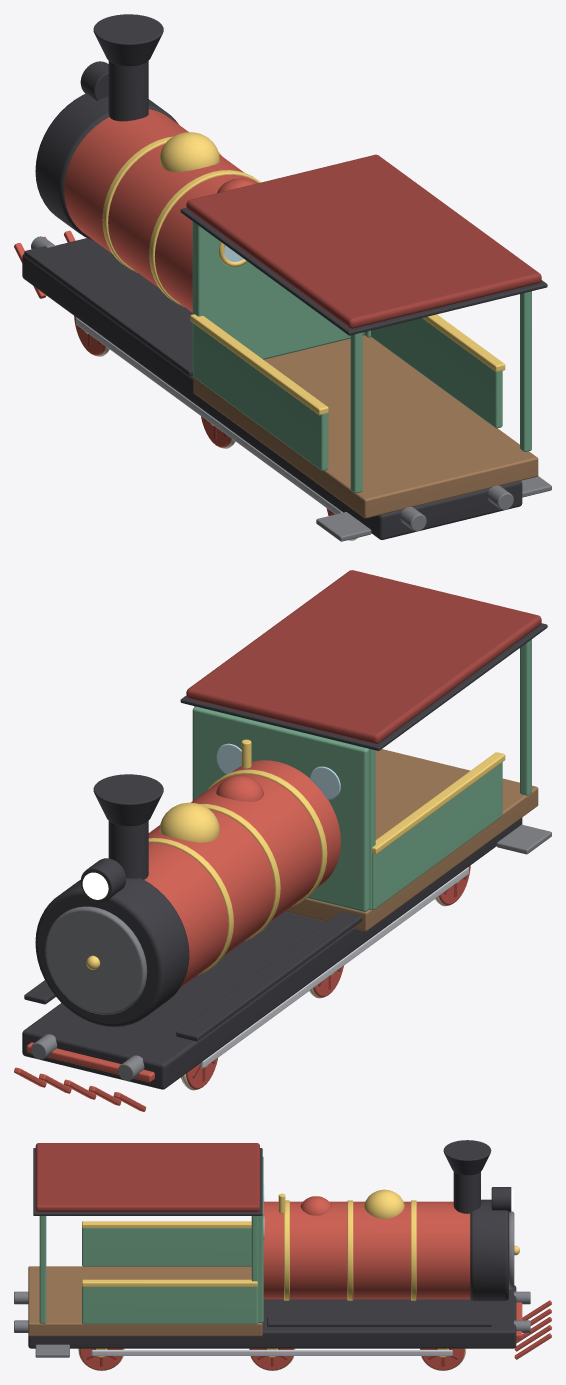
File: locomotive.glb
The picture shows the model from 3 angles, top to bottom: view 1: azimuth 30°, elevation 25°; view 2: azimuth 150°, elevation 25°; view 3: azimuth 270°, elevation 25°; orthographic projection. The views are drawn at different scales.
Visible parts, largest first — view 1: Locomotive; view 2: Locomotive; view 3: Locomotive, Wheel_1, Wheel_5, Wheel_3.
Part boxes in pixels (bbox=[...]): Locomotive: bbox=[14, 14, 551, 541]; Locomotive: bbox=[14, 570, 551, 1111]; Locomotive: bbox=[14, 1140, 551, 1359]; Wheel_1: bbox=[420, 1348, 466, 1370]; Wheel_5: bbox=[78, 1348, 124, 1370]; Wheel_3: bbox=[249, 1348, 295, 1370].
Size of the model in its own units: 3.4 by 4.6 by 11.03.
